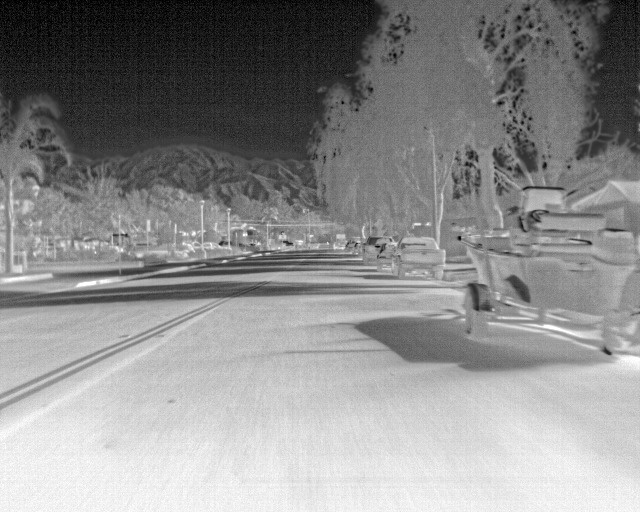vehicle: (396, 235, 447, 278), (361, 234, 395, 265)
